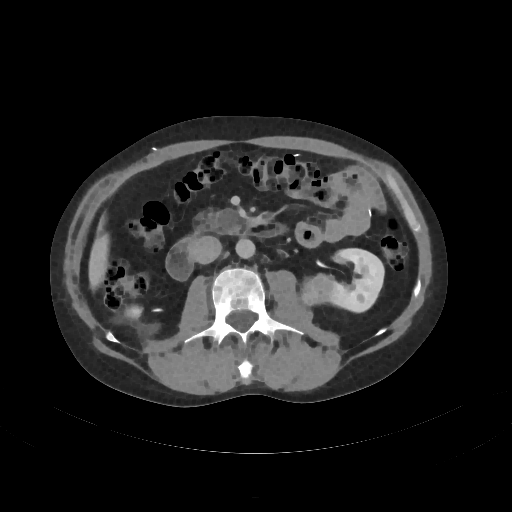Lesion: (294, 270, 340, 311)
